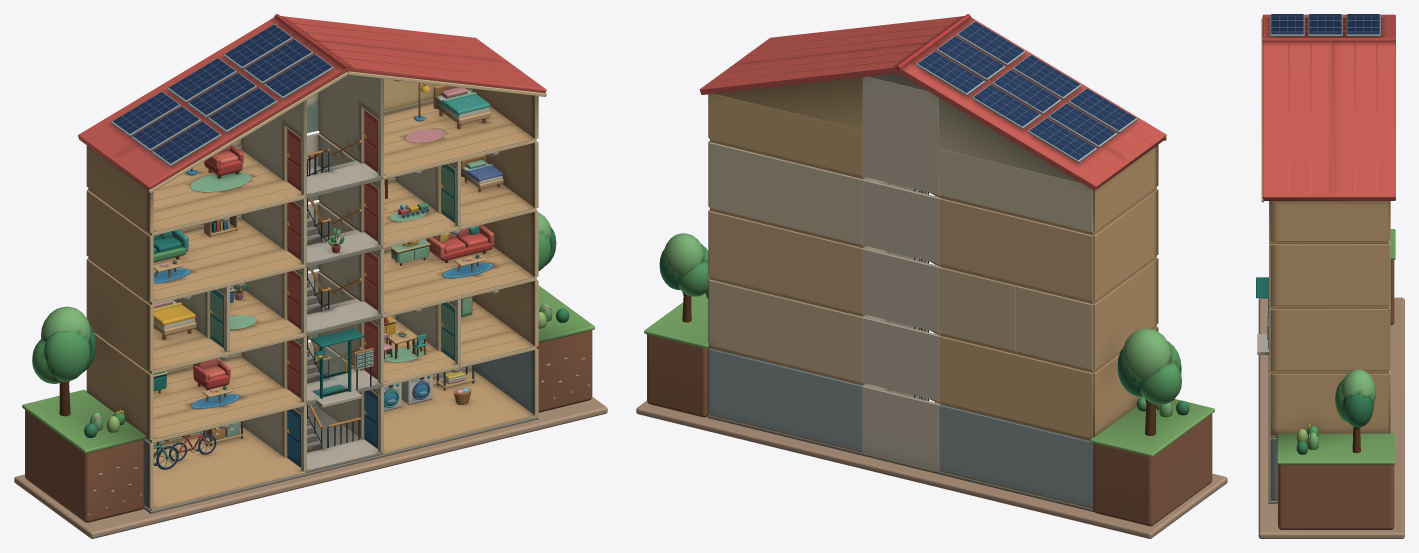
Rendered from rauchhaus.glb.
The picture shows the model from 3 angles, left to right: view 1: azimuth 30°, elevation 25°; view 2: azimuth 150°, elevation 25°; view 3: azimuth 270°, elevation 25°; orthographic projection. The views are drawn at different scales.
Visible parts, largest first — view 1: House structure surfaces, Garden surfaces, First floor east surfaces, Attic sleeping nook surfaces, Second floor west surfaces, Laundry surfaces, Garden flat surfaces, First floor west surfaces, Attic reading room surfaces, Second floor east surfaces, Kitchen and dining surfaces, Bicycle cellar surfaces (+13 smaller); view 2: House structure surfaces, Garden surfaces; view 3: House structure surfaces, Garden surfaces.
Part boxes in pixels (left/top/right/bottom): House structure surfaces: left=78, top=14, right=546, bottom=513; Garden surfaces: left=14, top=213, right=607, bottom=538; First floor east surfaces: left=390, top=225, right=494, bottom=278; Attic sleeping nook surfaces: left=405, top=83, right=490, bottom=142; Second floor west surfaces: left=153, top=215, right=237, bottom=283; Laundry surfaces: left=384, top=365, right=475, bottom=411; Garden flat surfaces: left=153, top=358, right=240, bottom=408; First floor west surfaces: left=153, top=283, right=256, bottom=340; Attic reading room surfaces: left=186, top=145, right=250, bottom=192; Second floor east surfaces: left=384, top=155, right=503, bottom=221; Kitchen and dining surfaces: left=384, top=296, right=473, bottom=362; Bicycle cellar surfaces: left=153, top=421, right=243, bottom=469; House structure surfaces: left=700, top=14, right=1166, bottom=511; Garden surfaces: left=636, top=233, right=1227, bottom=538; House structure surfaces: left=1256, top=14, right=1395, bottom=503; Garden surfaces: left=1258, top=229, right=1404, bottom=538.
Bounding box in the file's own units: 18.97 × 14.23 × 5.01.
